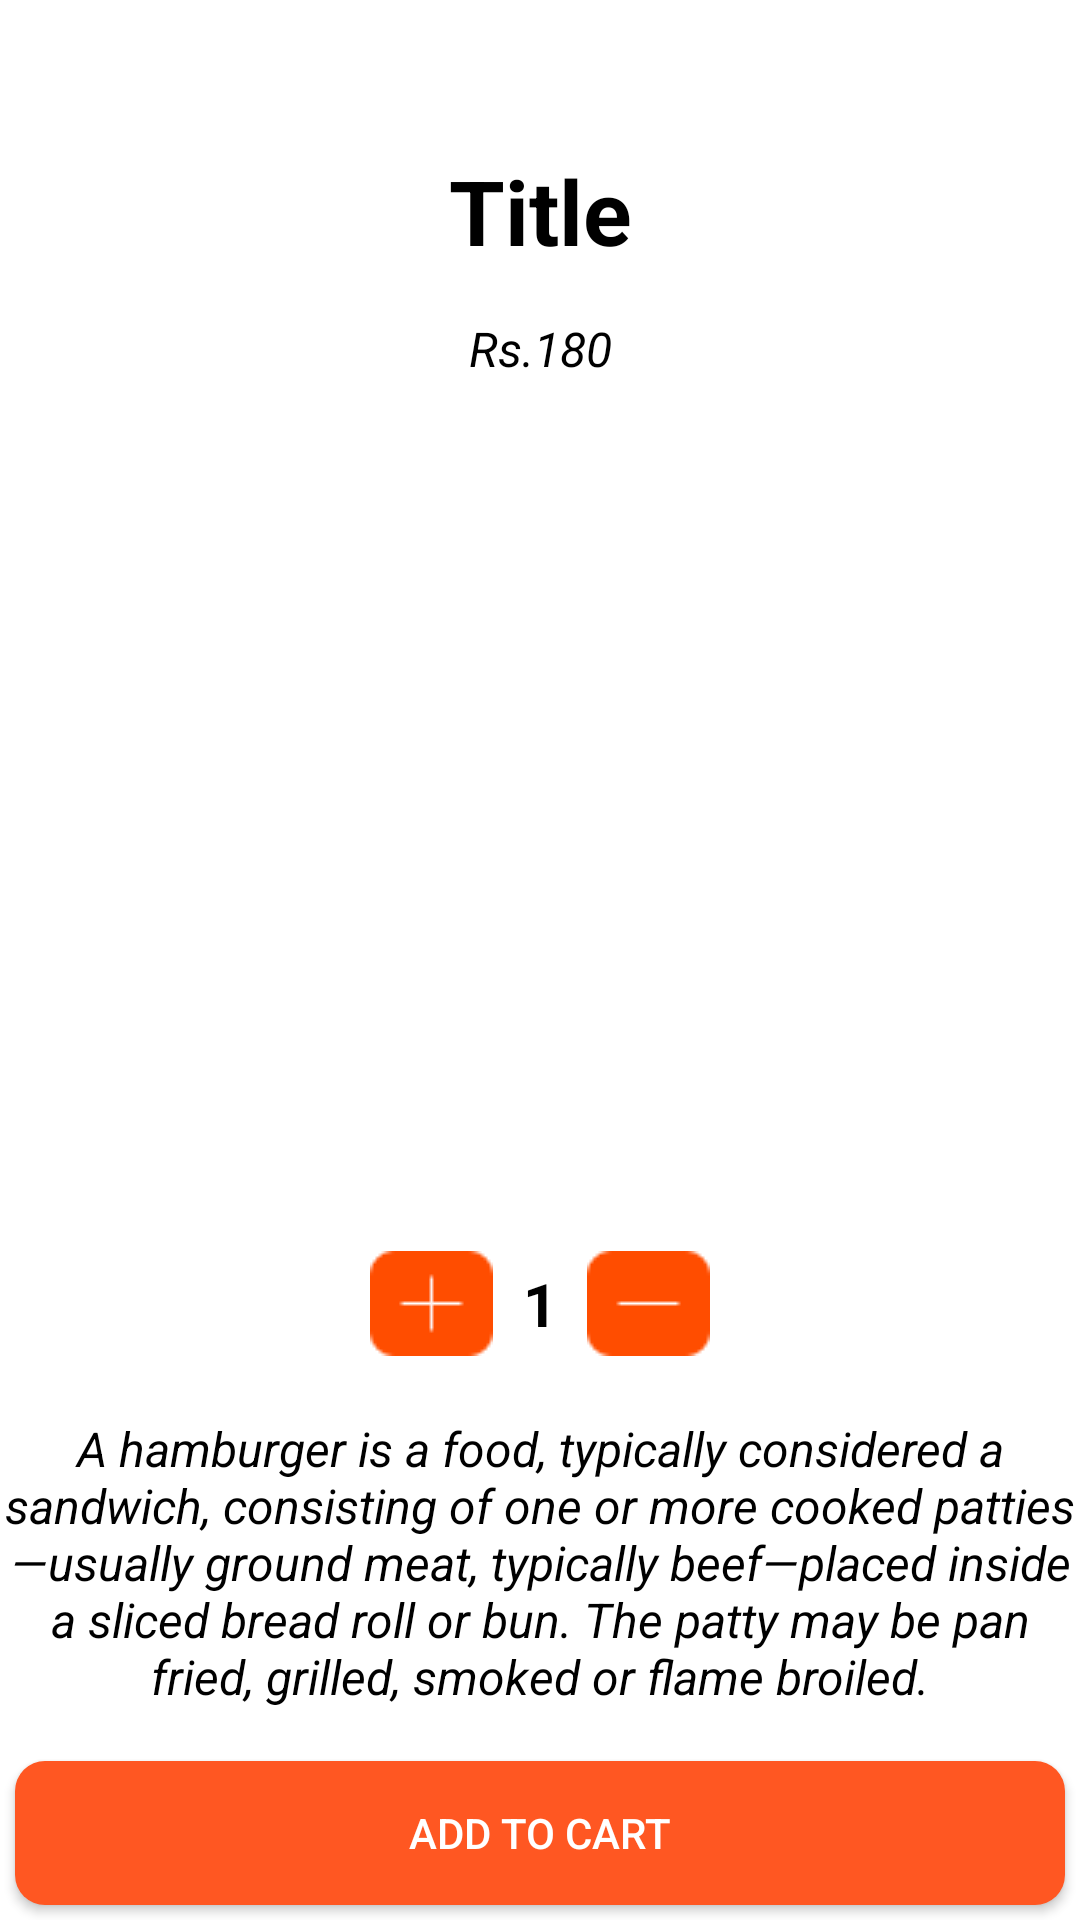

Icons on this 1080px x 1920px Android screen, each with the point to tap as (x=x, y=y):
add: (x=431, y=1303)
sub: (x=648, y=1303)
